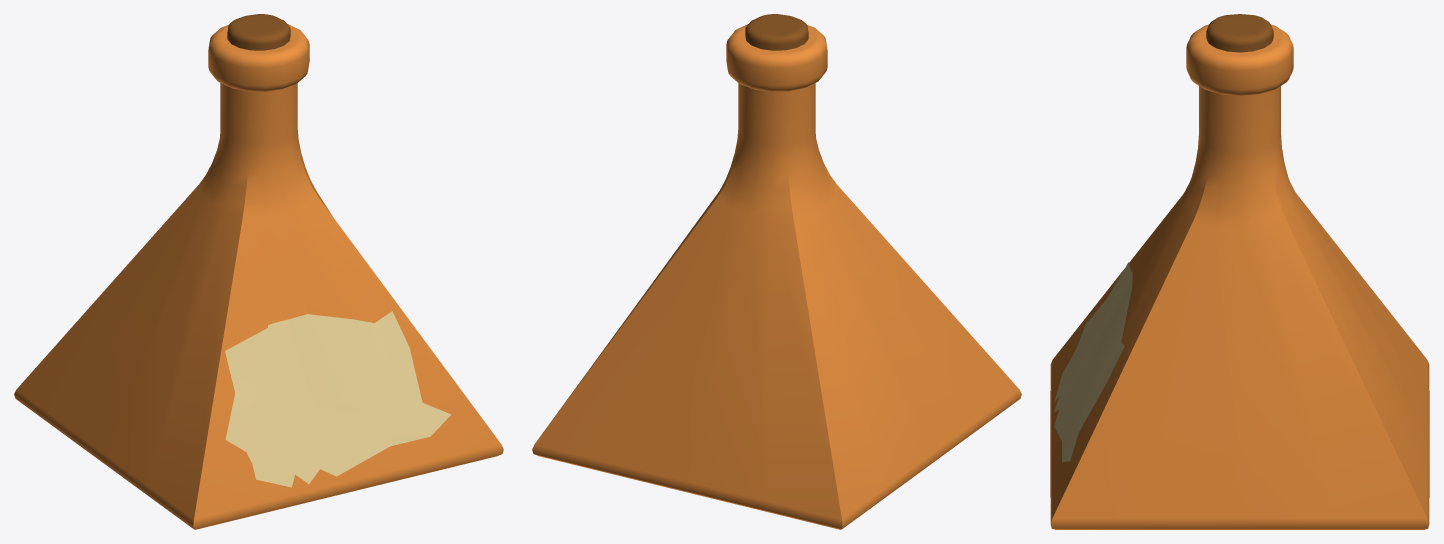
The model's file is jarron_2.fbx.
3 renders of one model, left to right at view 1: azimuth 30°, elevation 25°; view 2: azimuth 150°, elevation 25°; view 3: azimuth 270°, elevation 25°, orthographic. The views are drawn at different scales.
Parts seen in each view (by area): view 1: Cubo, Plane.001, Cubo.001; view 2: Cubo, Cubo.001; view 3: Cubo, Plane.001, Cubo.001.
Part boxes in pixels (<box>): Cubo: <box>14,24,503,529</box>; Plane.001: <box>225,311,451,487</box>; Cubo.001: <box>227,14,290,50</box>; Cubo: <box>532,24,1021,529</box>; Cubo.001: <box>745,14,808,50</box>; Cubo: <box>1050,24,1429,529</box>; Plane.001: <box>1054,262,1132,462</box>; Cubo.001: <box>1206,14,1273,52</box>.
Size of the model in its own units: 194 by 241 by 194.
